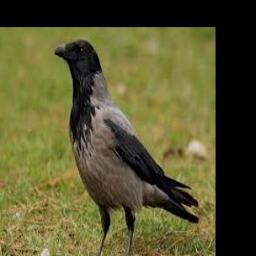Crow: (55, 39, 200, 256)
